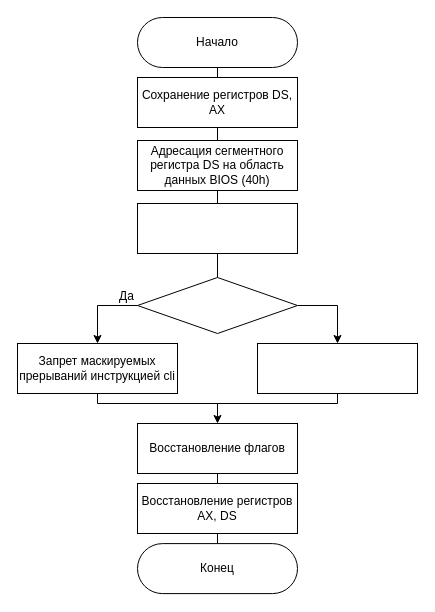
This 435x612 diagram has some shape labels left out. Here are the shapes that lost their labels. From the top down, the centre of each, then its label:
At (x=217, y=228): "Сохранение флагов".
At (x=217, y=305): "Установлены ли DF или старший бит IOPL в 0040:0314?".
At (x=337, y=368): "Сброс флага разрешения прерывания IF в 0040:0314".
